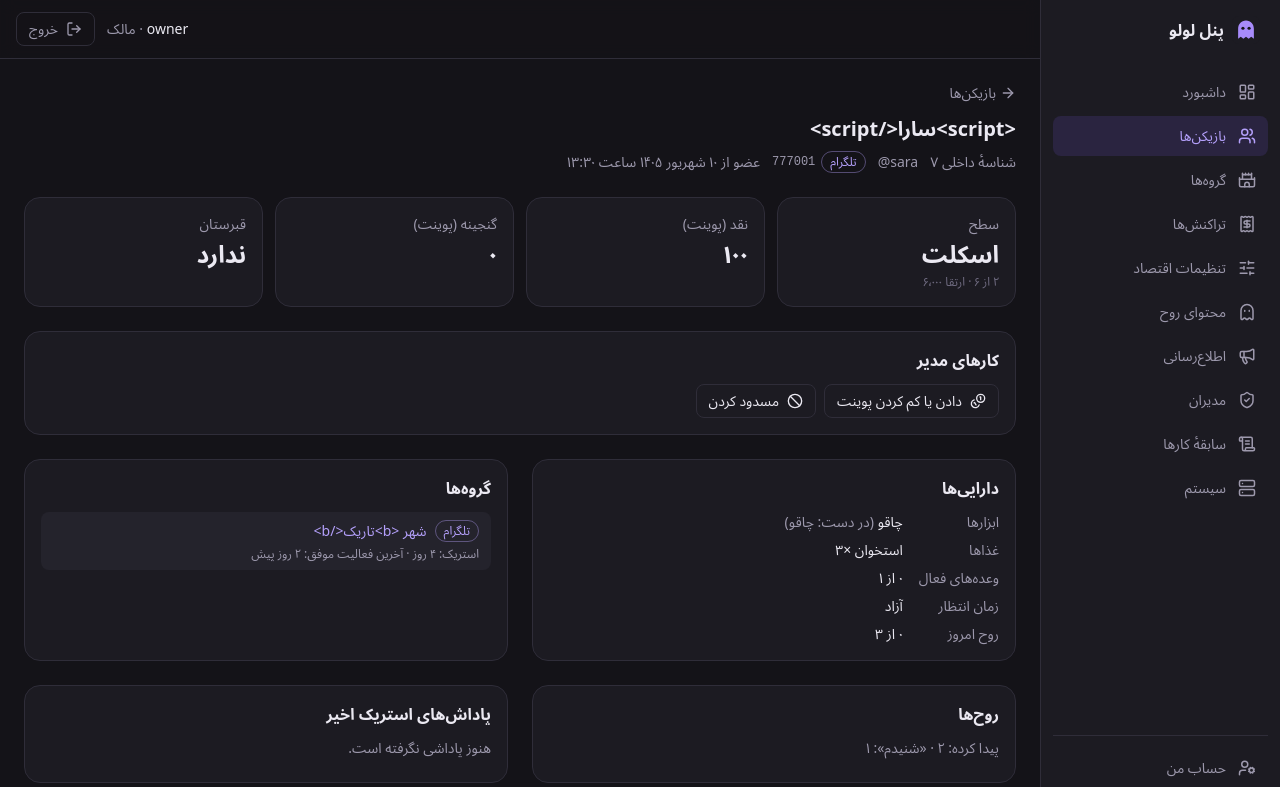
Scenario: player profile › bans with a required reason
Click the button "مسدود کردن". click: (756, 401)
box: [696, 384, 816, 418]
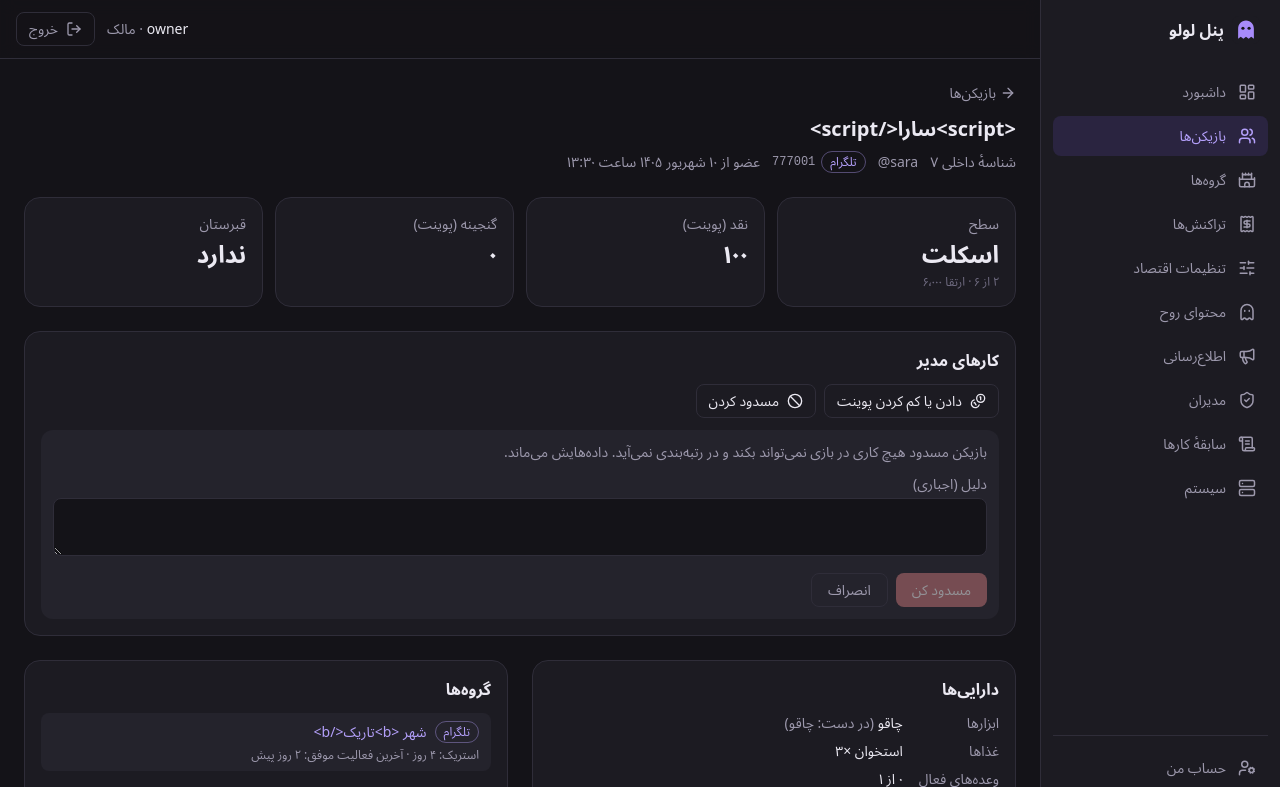
expect the button "مسدود کن" is disabled: met, box [896, 573, 987, 607]
Type "تقلب" into the text box labelled "دلیل (اجباری)". click: (520, 527)
box: [53, 498, 987, 556]
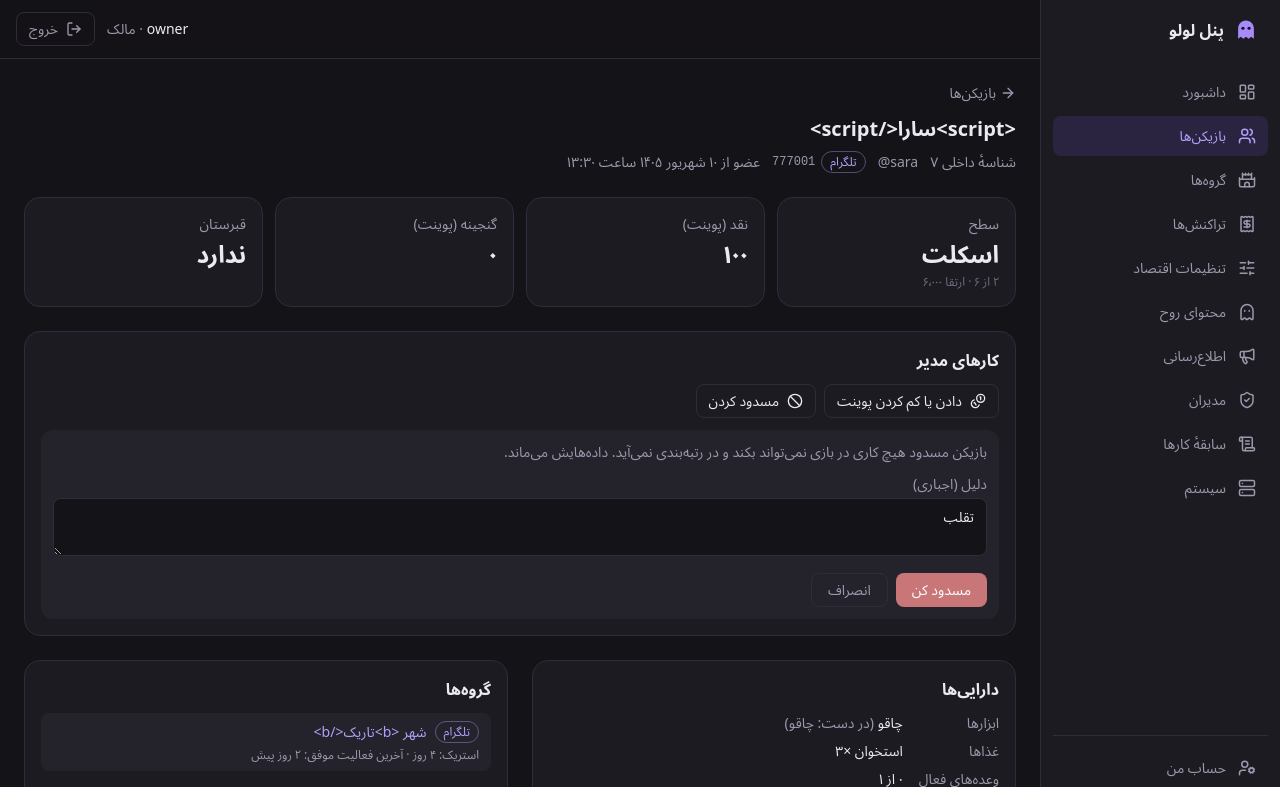
Click the button "مسدود کن". click: (941, 590)
box: [896, 573, 987, 607]
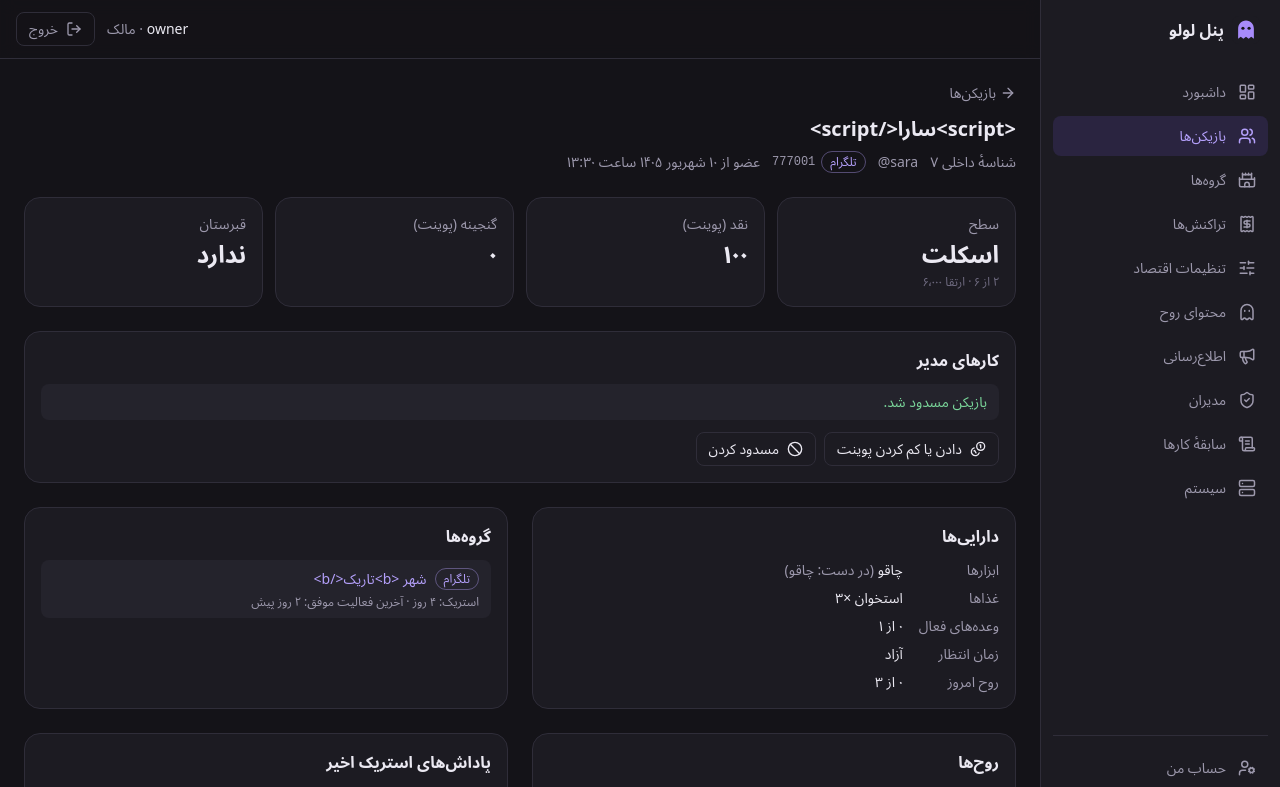
expect the text "بازیکن مسدود شد." is shown: met, box [41, 384, 999, 420]
